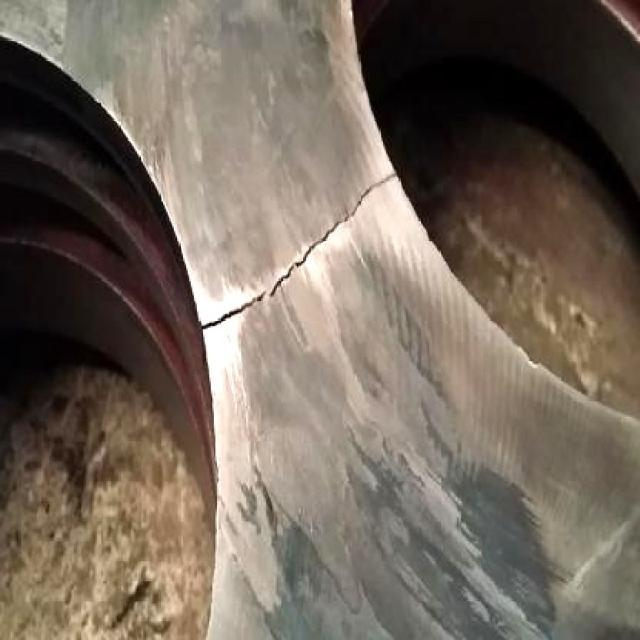crack: (300, 215, 354, 263), (203, 295, 271, 326), (353, 175, 395, 215), (274, 259, 300, 292)
